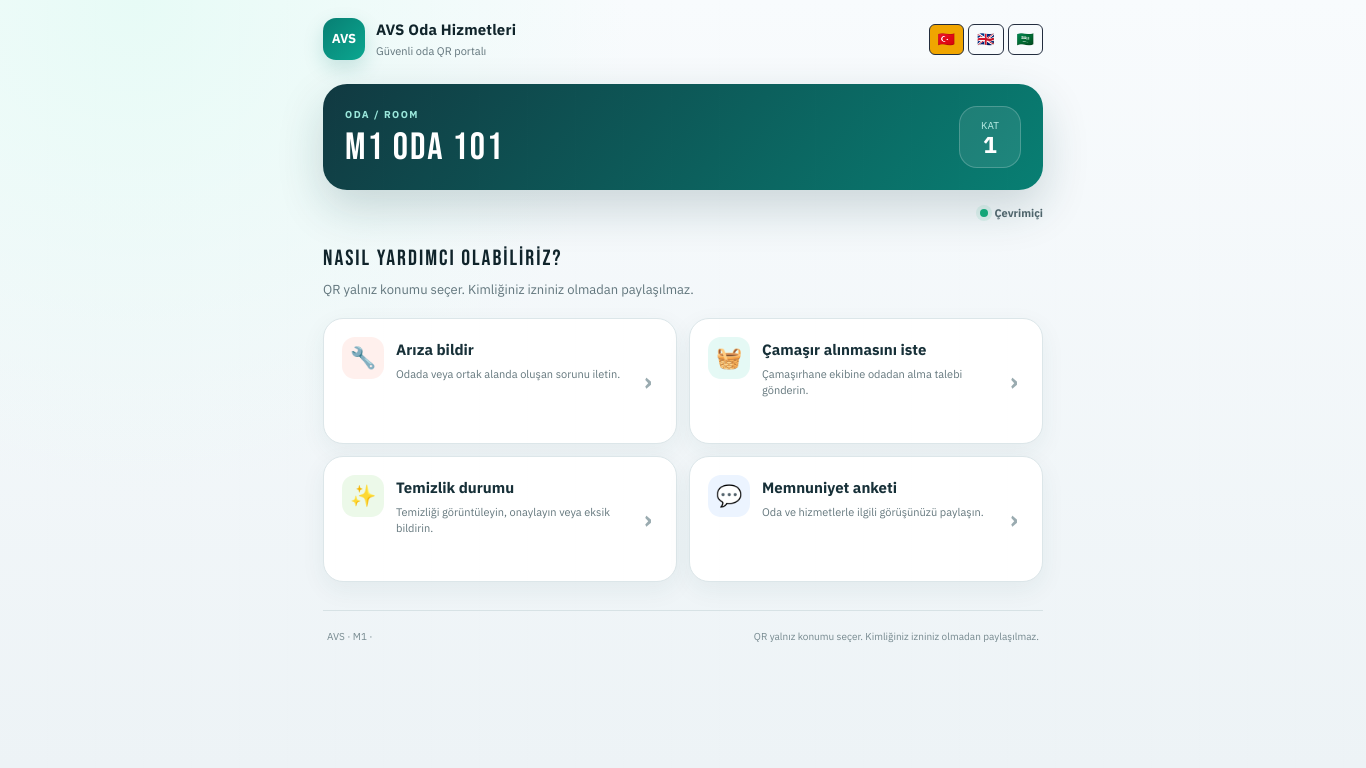
it: RoomPortalPage › temizlik "none" durumundayken de görevliye saha ekranı bağlantısı gösterir
Click the button "Temizlik durumu".
click(500, 518)  # box [323,456,677,582]
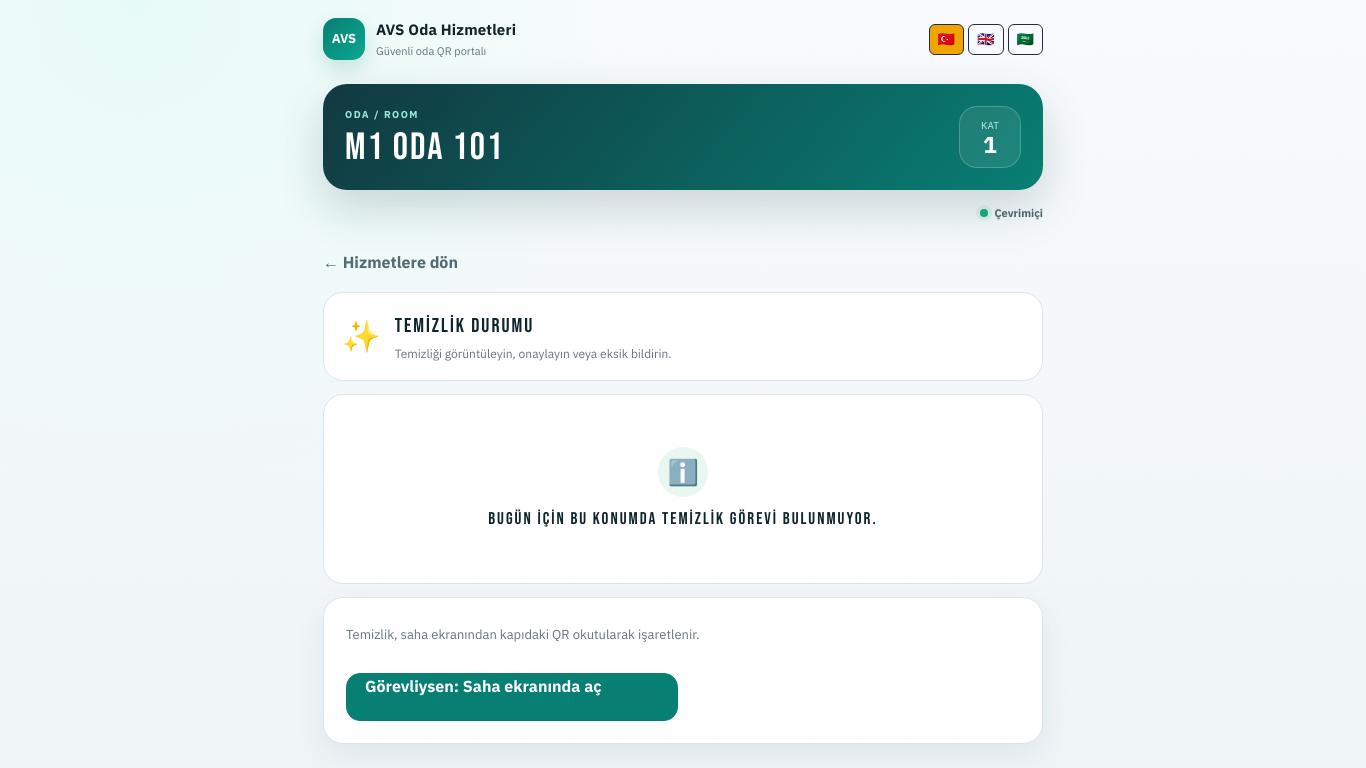
Check: the heading "Bugün için bu konumda temizlik görevi bulunmuyor." is shown, box [488,507,878,532]
